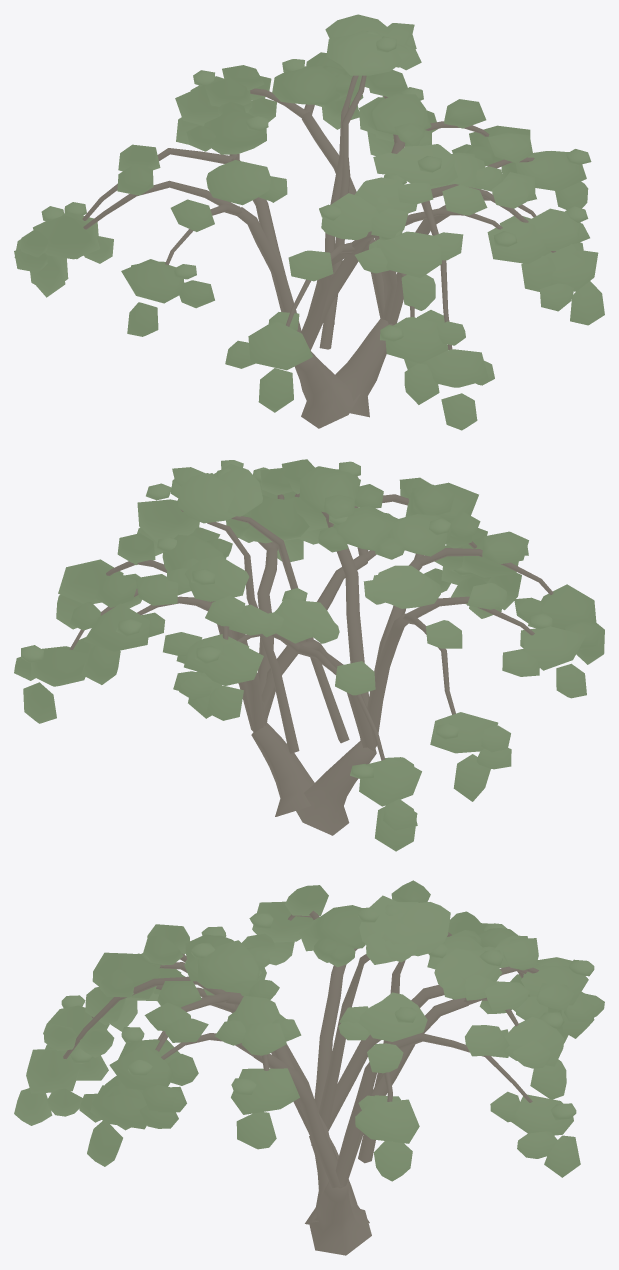
Rendered from Blender_Ironwood_2.glb.
3 views of the same model, one above another, from view 1: azimuth 30°, elevation 25°; view 2: azimuth 150°, elevation 25°; view 3: azimuth 270°, elevation 25° (orthographic). The views are drawn at different scales.
Parts seen in each view (by area): view 1: Blender_Ironwood_2; view 2: Blender_Ironwood_2; view 3: Blender_Ironwood_2.
Part boxes in pixels (x1,y1,x2,y2): Blender_Ironwood_2: (14, 14, 604, 430); Blender_Ironwood_2: (14, 459, 604, 851); Blender_Ironwood_2: (14, 880, 604, 1255).
Size of the model in its own units: 8.33 by 5.91 by 8.57.
